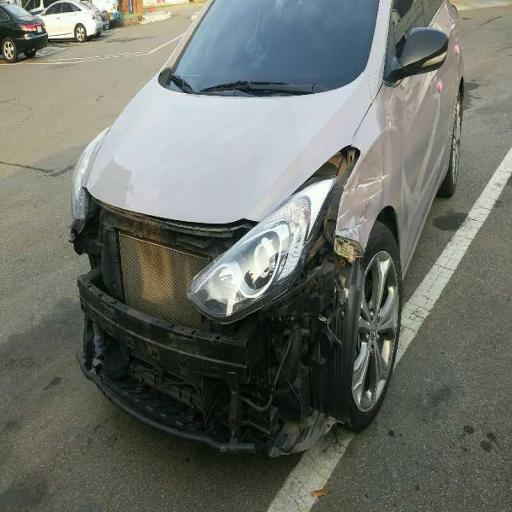broken: (84, 168, 332, 428)
scratch: (342, 142, 404, 280)
